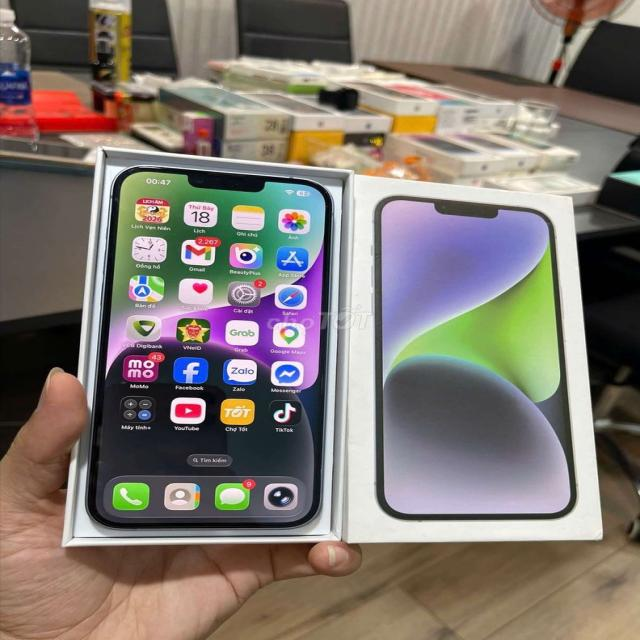gen_14: (77, 158, 343, 539)
